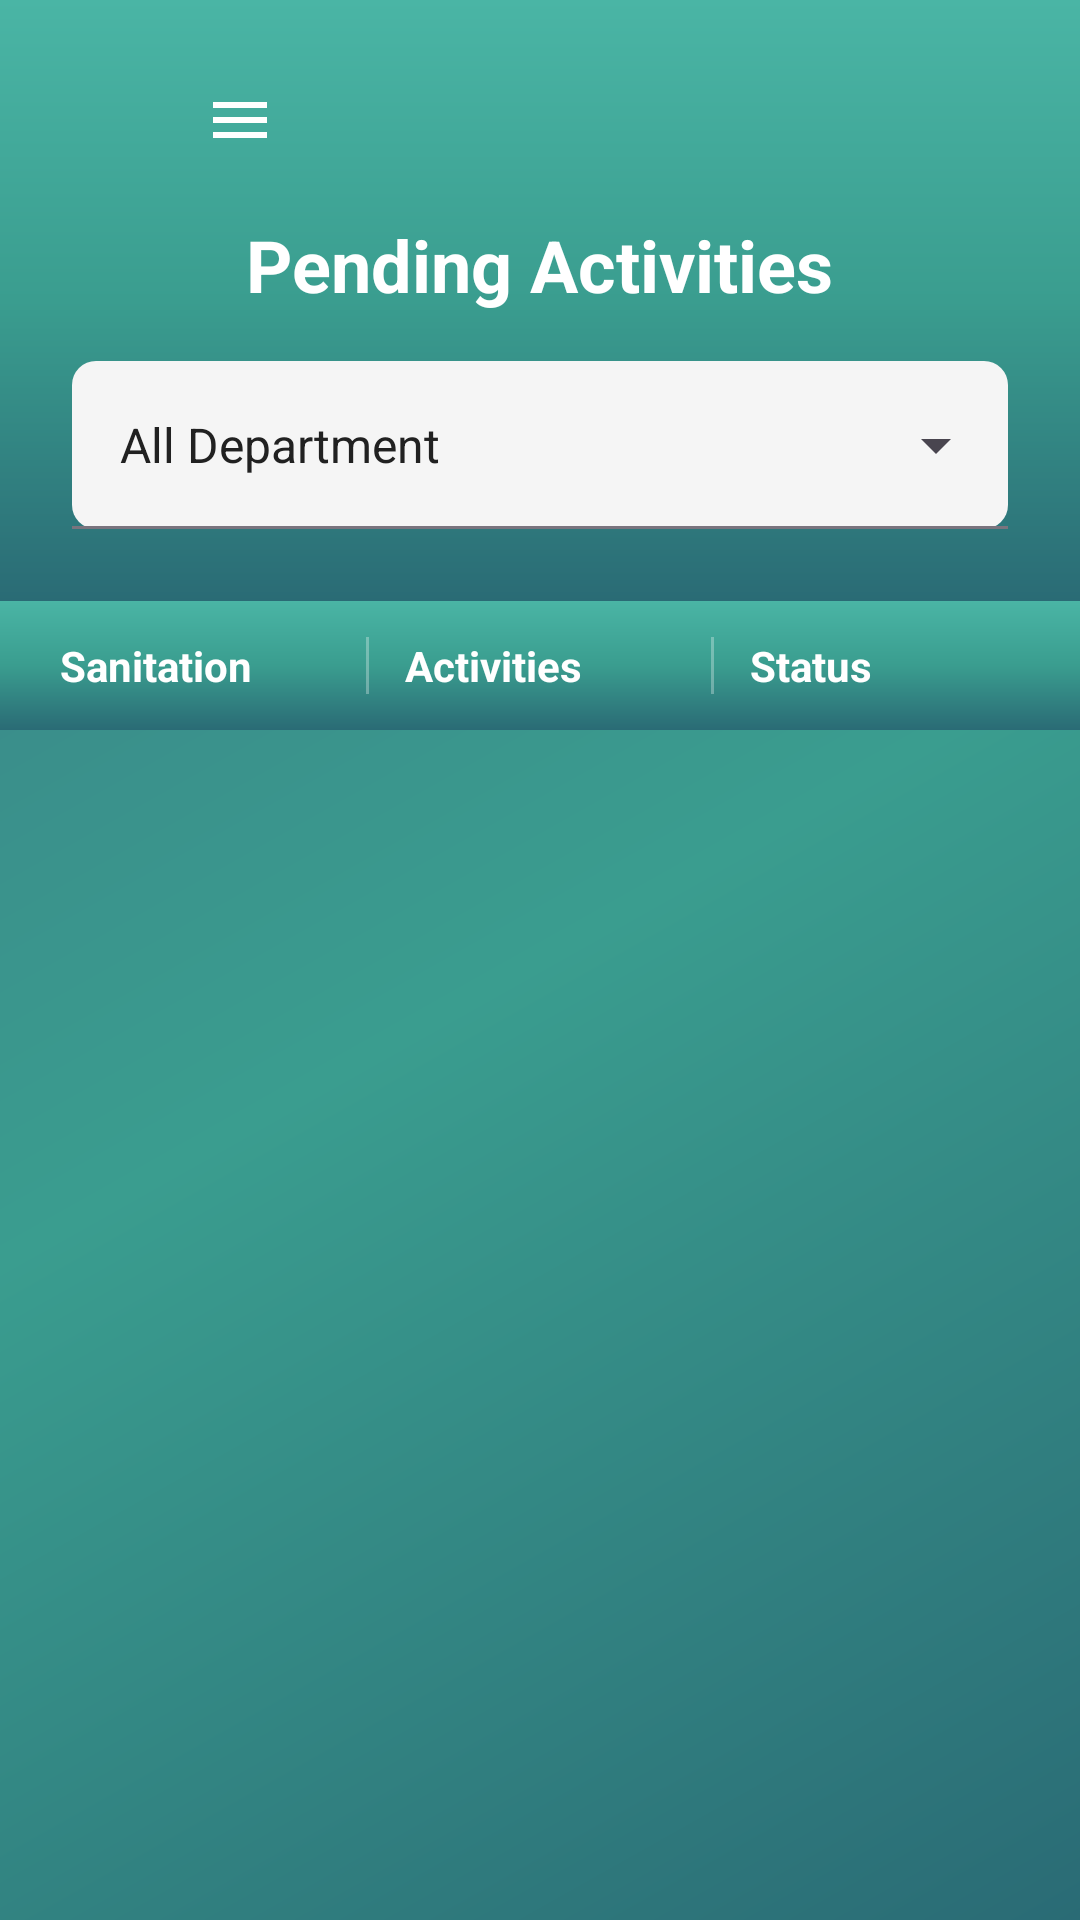

Named icons in this screenshot (1080px×1920px) and their bounding boxes, box(x1, y1, x2, y2):
Menu: box(213, 102, 267, 138)
